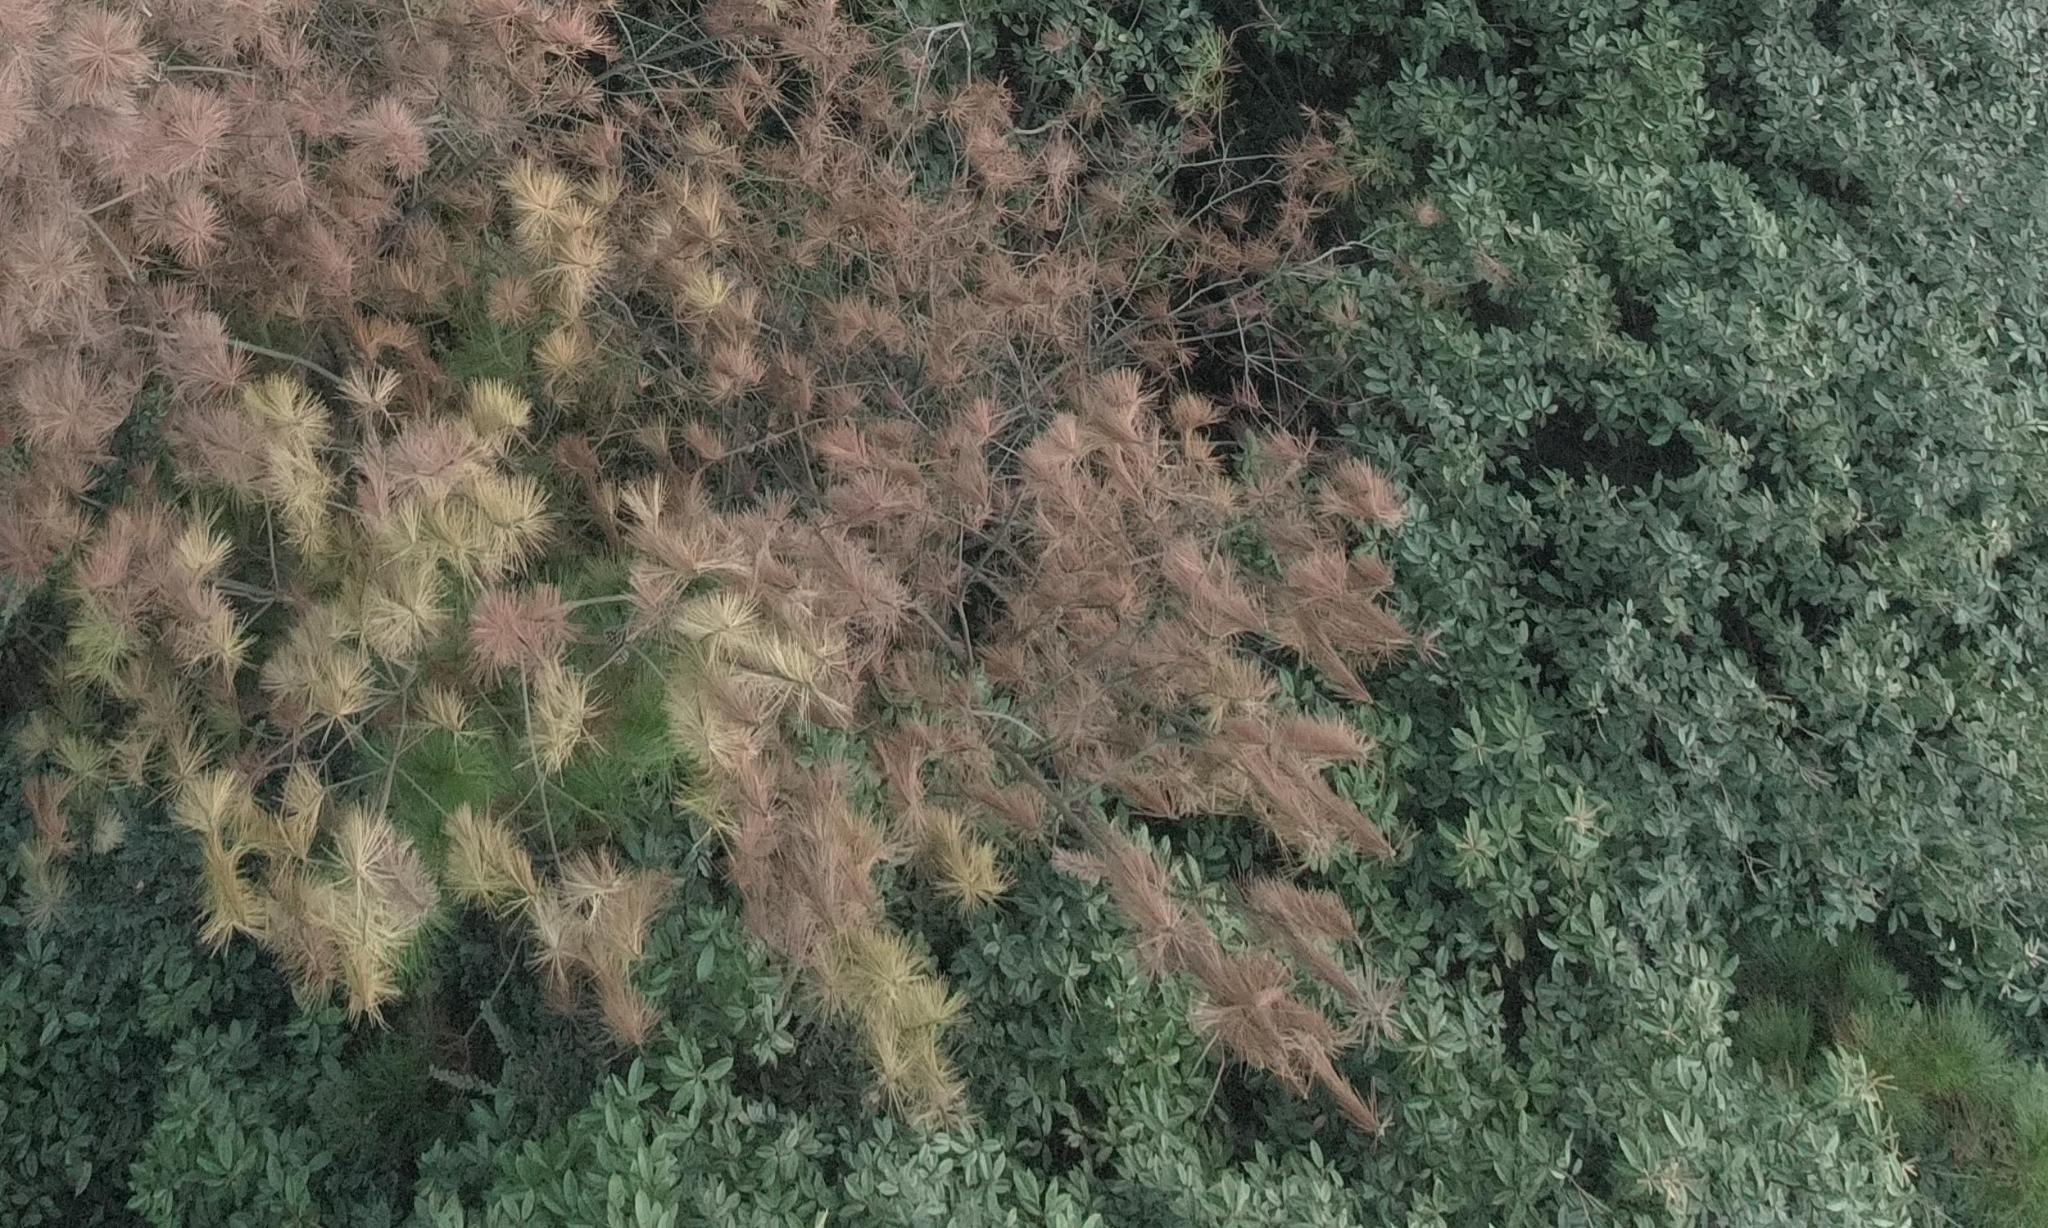heavy: (12, 15, 1396, 1108)
